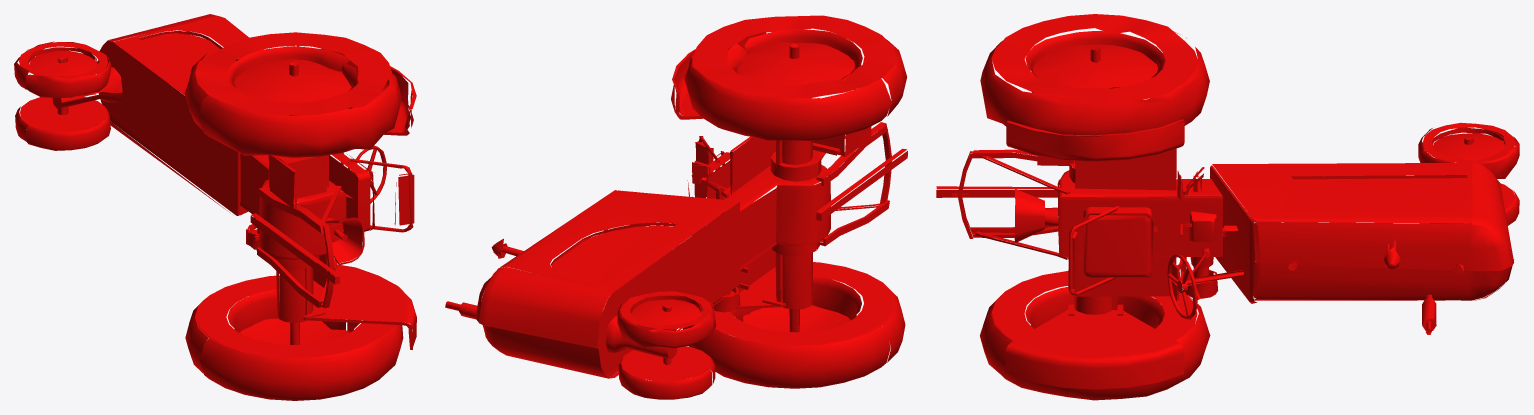
3 renders of one model, left to right at view 1: azimuth 30°, elevation 25°; view 2: azimuth 150°, elevation 25°; view 3: azimuth 270°, elevation 25°, orthographic. The views are drawn at different scales.
Parts seen in each view (by area): view 1: Renderer Node; view 2: Renderer Node; view 3: Renderer Node.
Boxes of the visible parts, bbox=[...] form: Renderer Node: bbox=[14, 14, 416, 400]; Renderer Node: bbox=[445, 15, 907, 399]; Renderer Node: bbox=[936, 14, 1519, 400].
Bounding box in the file's own units: 1.16 × 1.22 × 2.01.
1 material, 1 textured.
